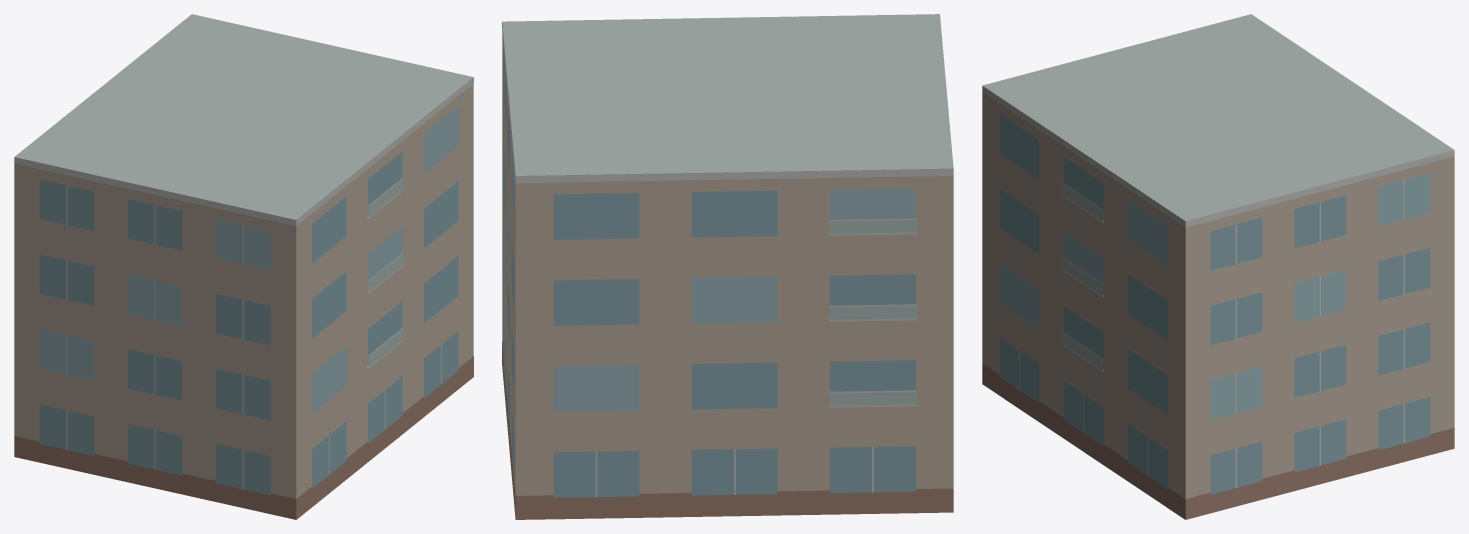
The model's file is survey-upis-32998331.glb.
3 renders of one model, left to right at view 1: azimuth 30°, elevation 25°; view 2: azimuth 150°, elevation 25°; view 3: azimuth 270°, elevation 25°, orthographic. The views are drawn at different scales.
Visible parts, largest first — view 1: survey-upis-32998331.tmp; view 2: survey-upis-32998331.tmp; view 3: survey-upis-32998331.tmp.
Part boxes in pixels (<box>): survey-upis-32998331.tmp: <box>14,14,473,519</box>; survey-upis-32998331.tmp: <box>502,14,953,519</box>; survey-upis-32998331.tmp: <box>982,14,1454,519</box>.
Bounding box in the file's own units: 17.13 × 11.5 × 16.5.
